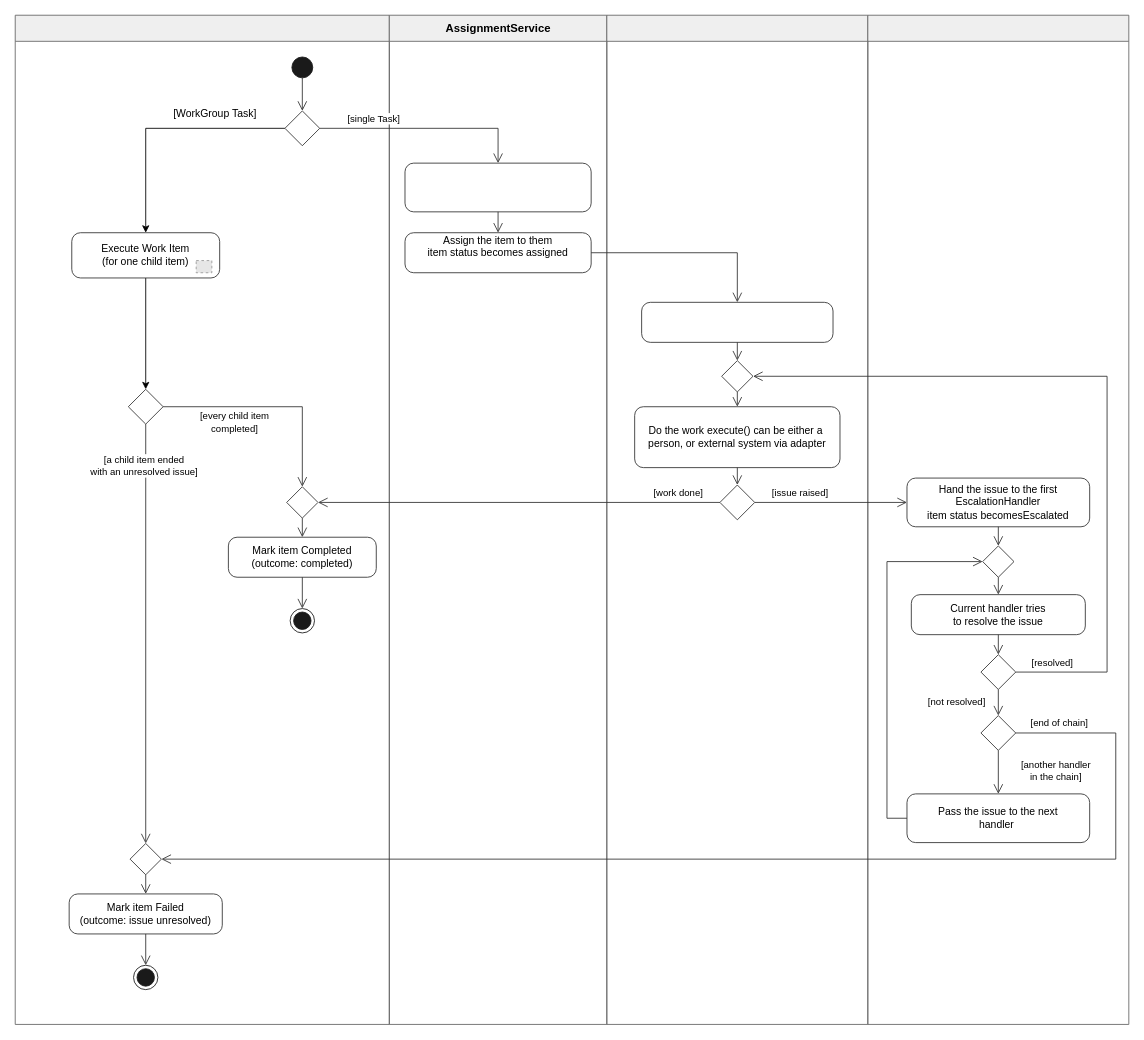
This 1144x1040 diagram has some shape labels left out. Grey dashed boxes stand in for pictures. Each missing label, with the box of its shape:
Choose who does the work (role, workload or region): (404, 162, 591, 212)
EscalationHandler chain: (867, 14, 1129, 1024)
Selected Participant: (606, 14, 868, 1024)
Start the work item status becomes in progress: (641, 301, 833, 342)
WorkflowEngine: (14, 14, 389, 1024)
